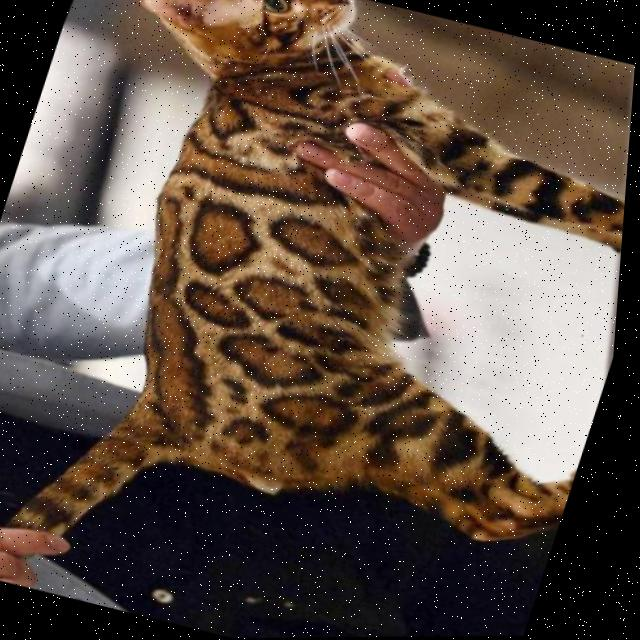Cats: (17, 0, 628, 542)
